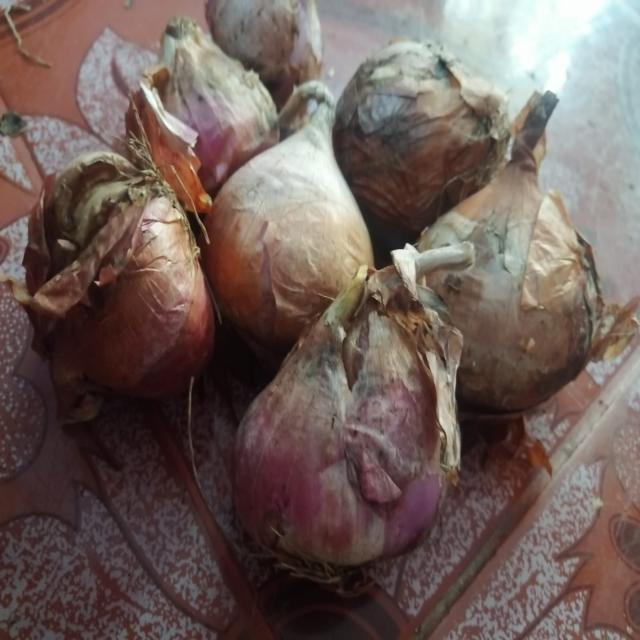rotten: (44, 167, 140, 270), (285, 338, 426, 388), (538, 230, 585, 374), (360, 55, 425, 158)
